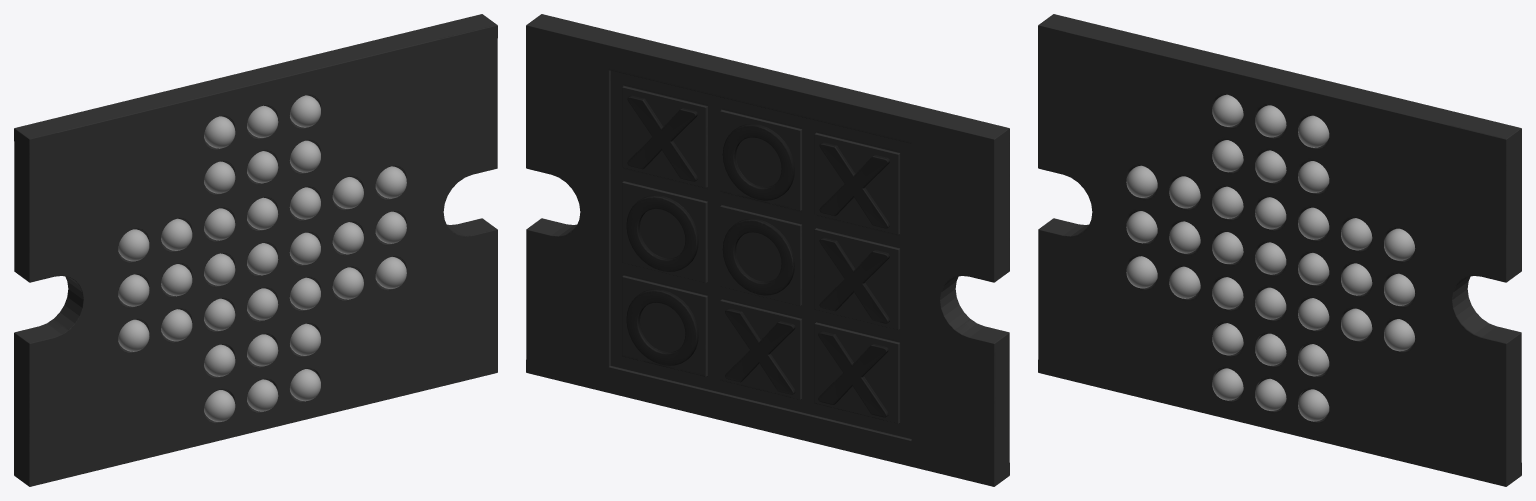
The model's file is gamebox-black-game.glb.
The picture shows the model from 3 angles, left to right: view 1: azimuth 30°, elevation 25°; view 2: azimuth 150°, elevation 25°; view 3: azimuth 330°, elevation 25°; orthographic projection.
Visible parts, largest first — view 1: Cube, Sphere.002; view 2: Cube; view 3: Cube, Sphere.002.
Part boxes in pixels (bbox=[...]): Cube: bbox=[14, 14, 497, 486]; Sphere.002: bbox=[118, 95, 406, 421]; Cube: bbox=[526, 14, 1009, 486]; Cube: bbox=[1038, 14, 1521, 486]; Sphere.002: bbox=[1126, 94, 1415, 421].
Size of the model in its own units: 3.4 by 2.41 by 0.3251.
2 materials, 1 textured.
